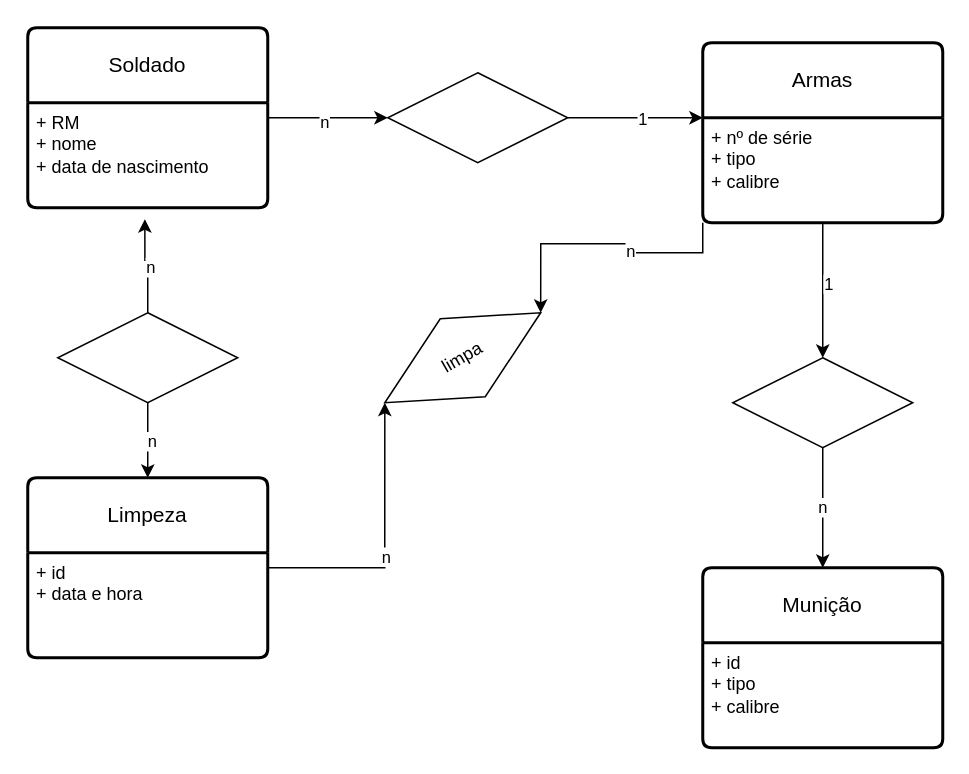
Some shapes in this 969 by 774 pixel diagram are drawn without their labels. Here are the shapes that lost their labels. From the top down, the centre of each, then its label:
At pixel 477 117: "posse".
At pixel 147 357: "pedido".
At pixel 822 402: "possui".
